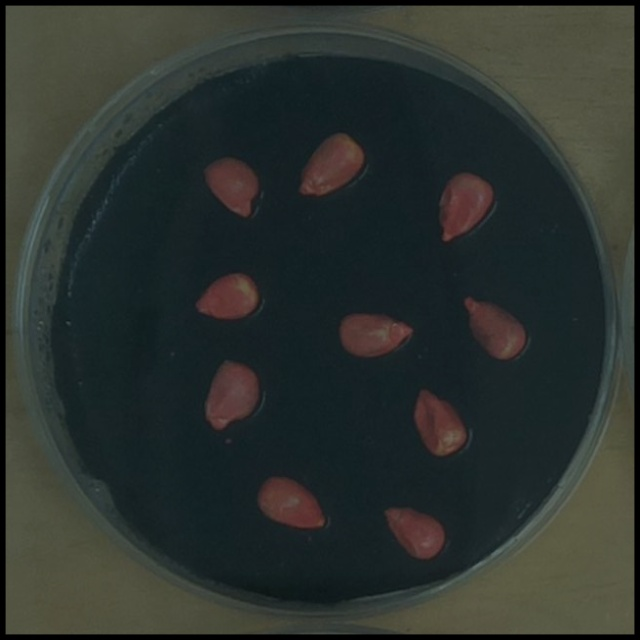Zea mays: (292, 123, 374, 204), (455, 286, 533, 366), (431, 161, 501, 246), (197, 351, 266, 437), (405, 380, 474, 462), (248, 467, 332, 534), (331, 303, 421, 363), (195, 149, 267, 224), (377, 495, 452, 566), (188, 263, 266, 325)
